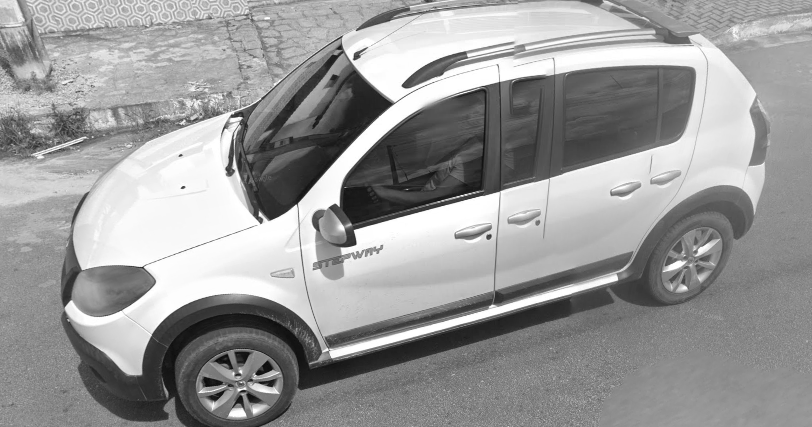car: (43, 2, 765, 422)
